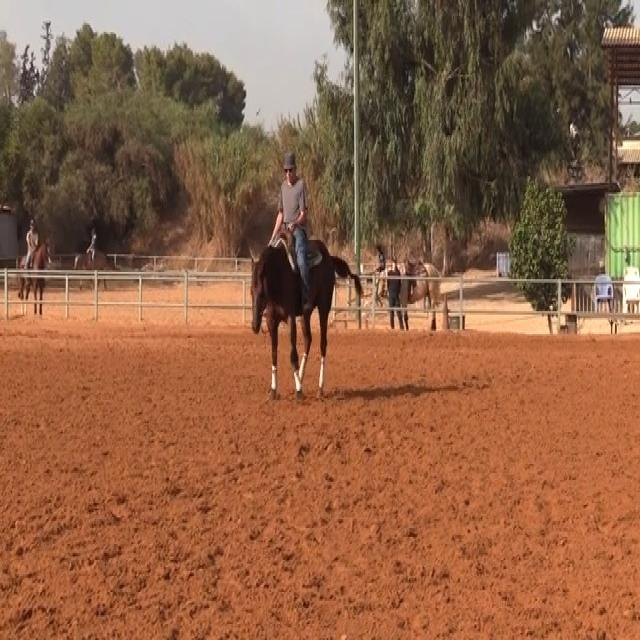horse: (246, 231, 364, 402)
